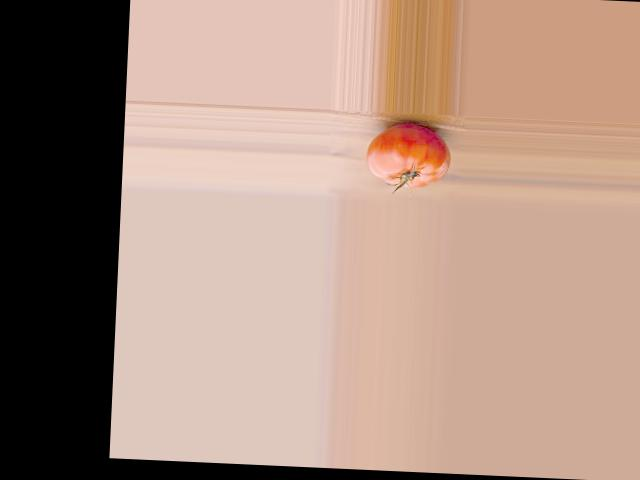tomato: (364, 121, 451, 189)
